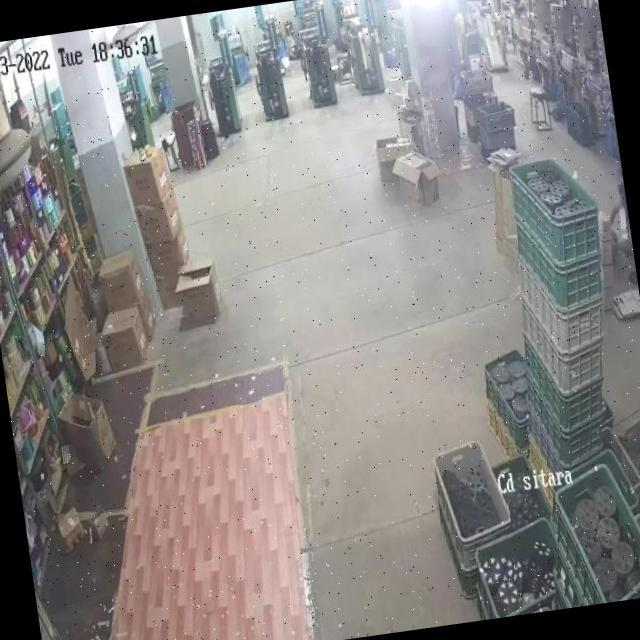person: (606, 185, 638, 292)
